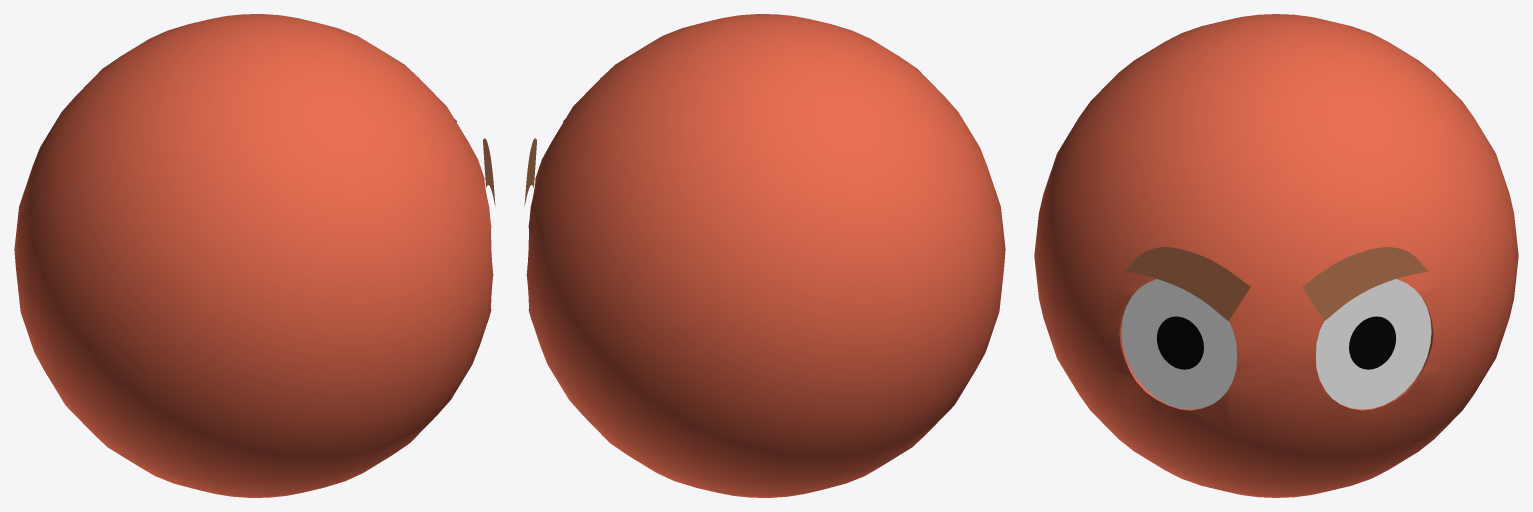
File: ANGRY.fbx
The picture shows the model from 3 angles, left to right: view 1: azimuth 30°, elevation 25°; view 2: azimuth 150°, elevation 25°; view 3: azimuth 270°, elevation 25°; orthographic projection.
Visible parts, largest first — view 1: Sphere.001; view 2: Sphere.001; view 3: Sphere.001, Cylinder, Cylinder.001, Cylinder.003, BézierCurve.002, BézierCurve.001, Cylinder.002.
Part boxes in pixels (x1,y1,x2,y2): Sphere.001: (14,14,493,497); Sphere.001: (526,14,1005,497); Sphere.001: (1034,14,1518,497); Cylinder: (1121,279,1236,409); Cylinder.001: (1316,279,1431,401); Cylinder.003: (1316,303,1430,409); BézierCurve.002: (1124,247,1250,320); BézierCurve.001: (1302,247,1428,320); Cylinder.002: (1121,289,1236,409).
Bounding box in the file's own units: 25.23 × 25 × 25.
